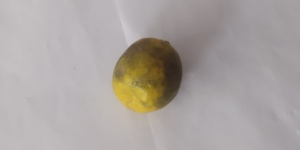BAD: (113, 36, 180, 114)
